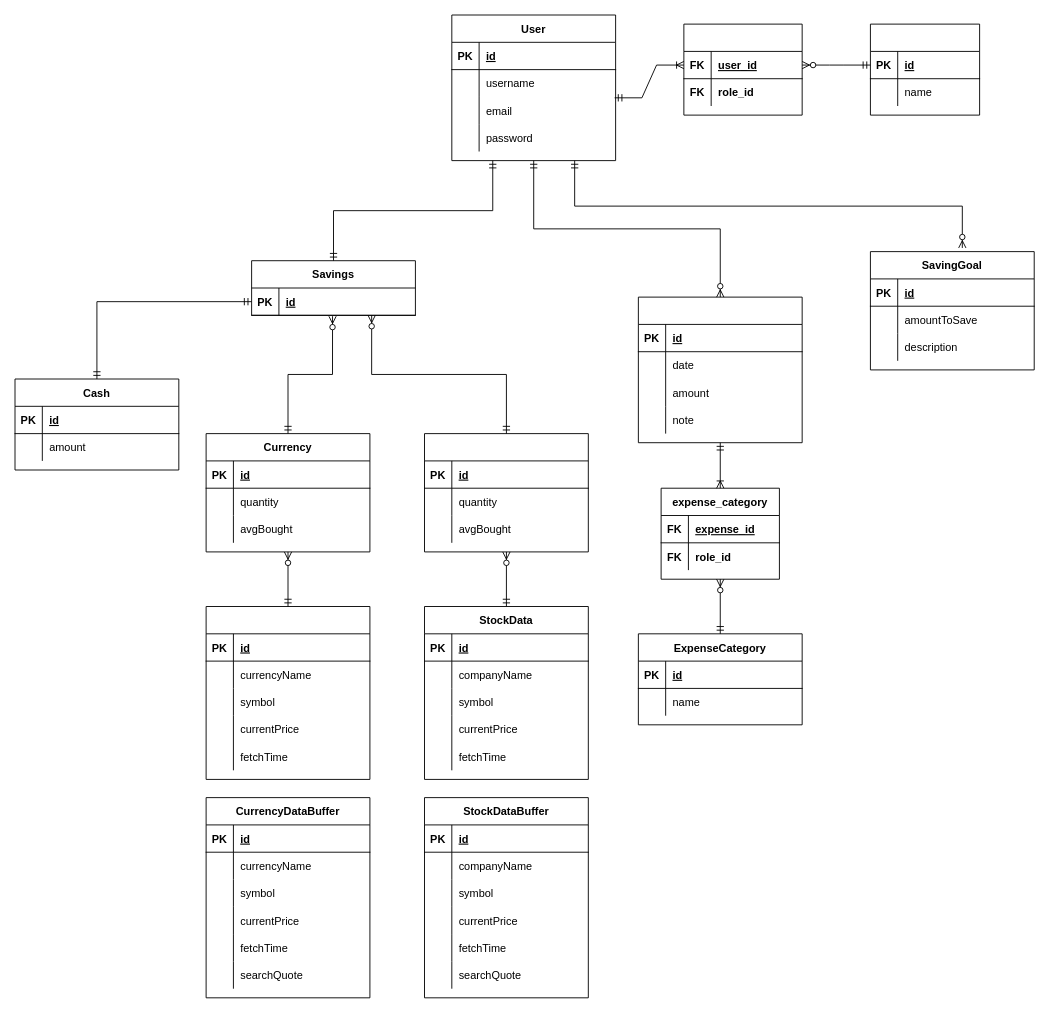
Some shapes in this 1049 by 1013 pixel diagram are drawn without their labels. The shapes that lost their labels are listed below. From the top down, each one's box as (x1, y1, x2, y2) in pixels, then its label:
(683, 23, 802, 115): user_role
(870, 23, 980, 115): Role
(637, 296, 802, 443): Expenses
(424, 433, 588, 552): Stock
(205, 606, 370, 779): CurrencyData
